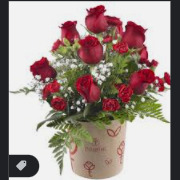RedRose: (20, 55, 59, 84), (83, 2, 112, 33), (121, 22, 151, 49), (131, 67, 155, 96), (76, 75, 100, 103), (54, 19, 83, 42), (77, 36, 102, 62), (156, 68, 172, 95), (104, 99, 124, 118), (42, 80, 63, 97), (119, 85, 136, 106), (51, 94, 66, 113), (49, 37, 66, 51)
